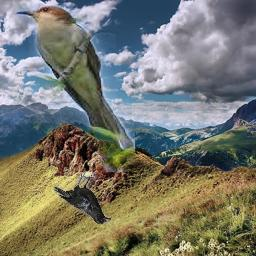Crow: (55, 172, 112, 224)
Cuckoo: (15, 6, 135, 173)
